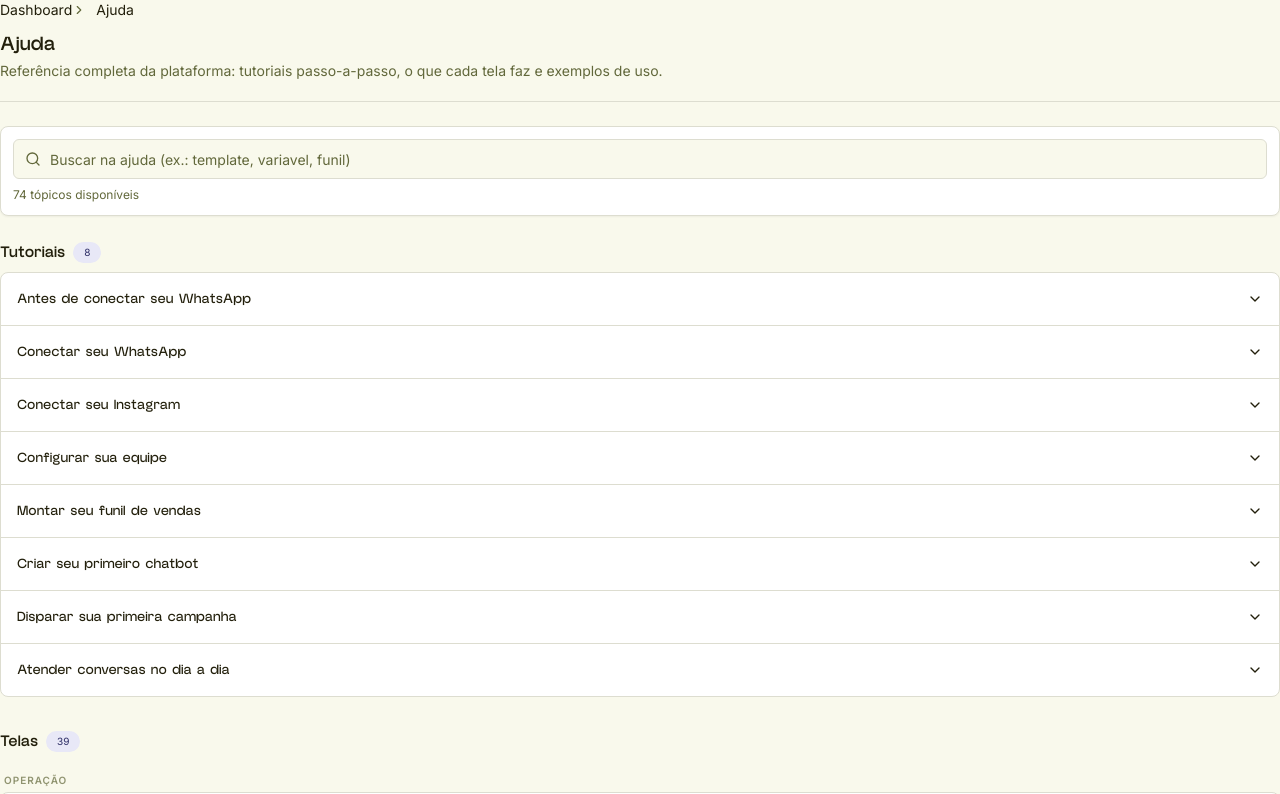
Test: Help — busca › exige todos os termos da busca
Type "campanha jamaisexistente" into the search field labelled "Buscar na ajuda" at (640, 159), box [13,139,1267,179]
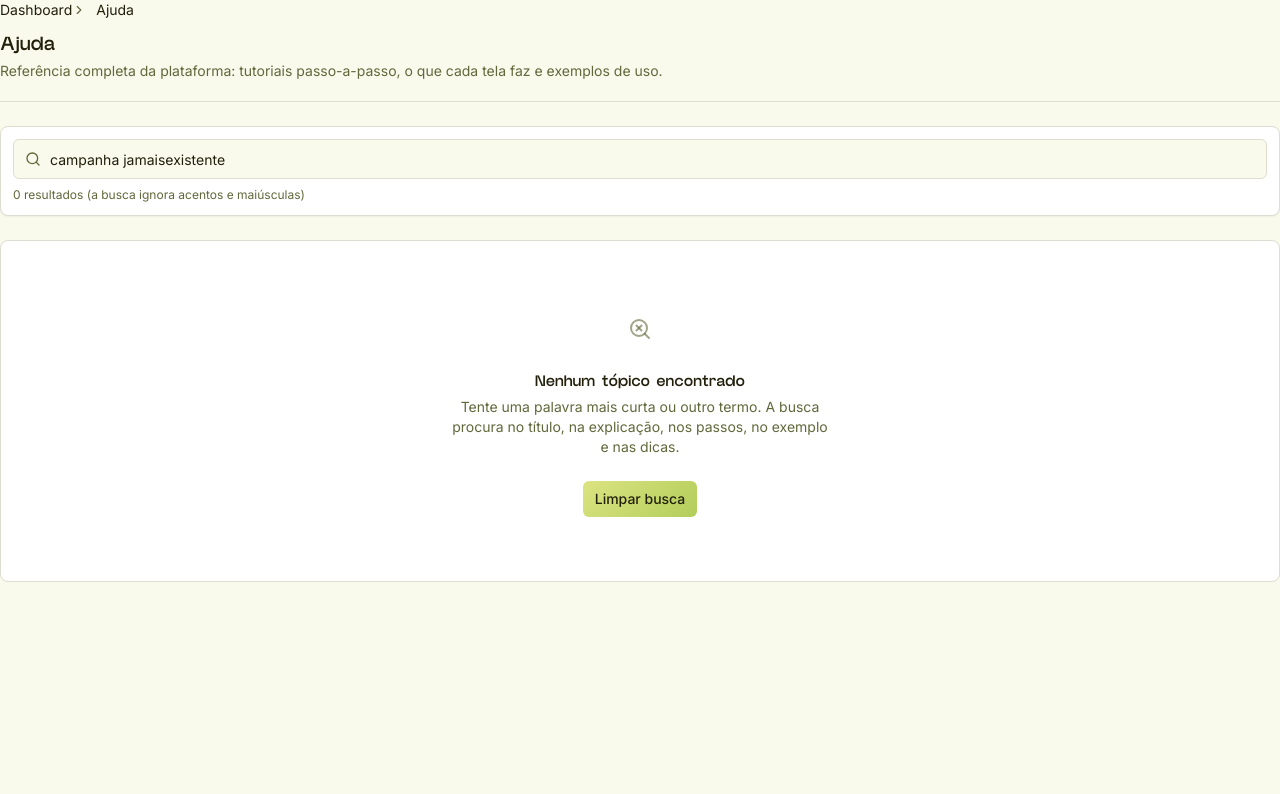
Check: the heading "Nenhum tópico encontrado" is shown, box [535,369,745,393]
